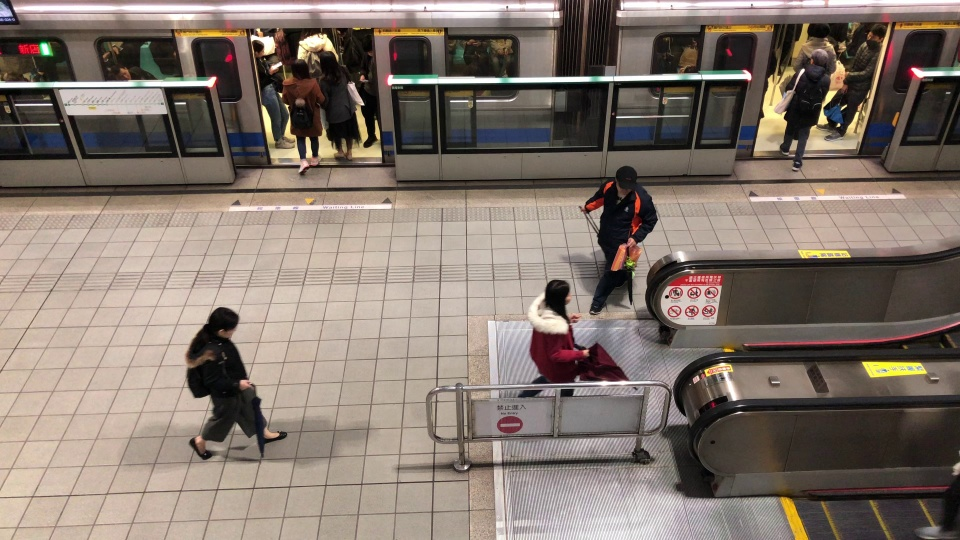person_head: (204, 307, 239, 340), (540, 277, 572, 313), (612, 165, 638, 197), (316, 49, 340, 72), (806, 48, 829, 72), (806, 21, 830, 42), (863, 24, 888, 44), (290, 58, 312, 79), (250, 39, 266, 57), (299, 27, 322, 37), (361, 40, 374, 56)
person_vbox: (174, 307, 288, 461), (573, 164, 659, 317), (515, 276, 591, 403), (815, 22, 889, 143), (779, 48, 831, 170), (248, 37, 296, 151), (314, 49, 362, 161), (281, 58, 327, 174), (354, 38, 386, 148), (787, 19, 836, 87), (295, 27, 339, 71)
